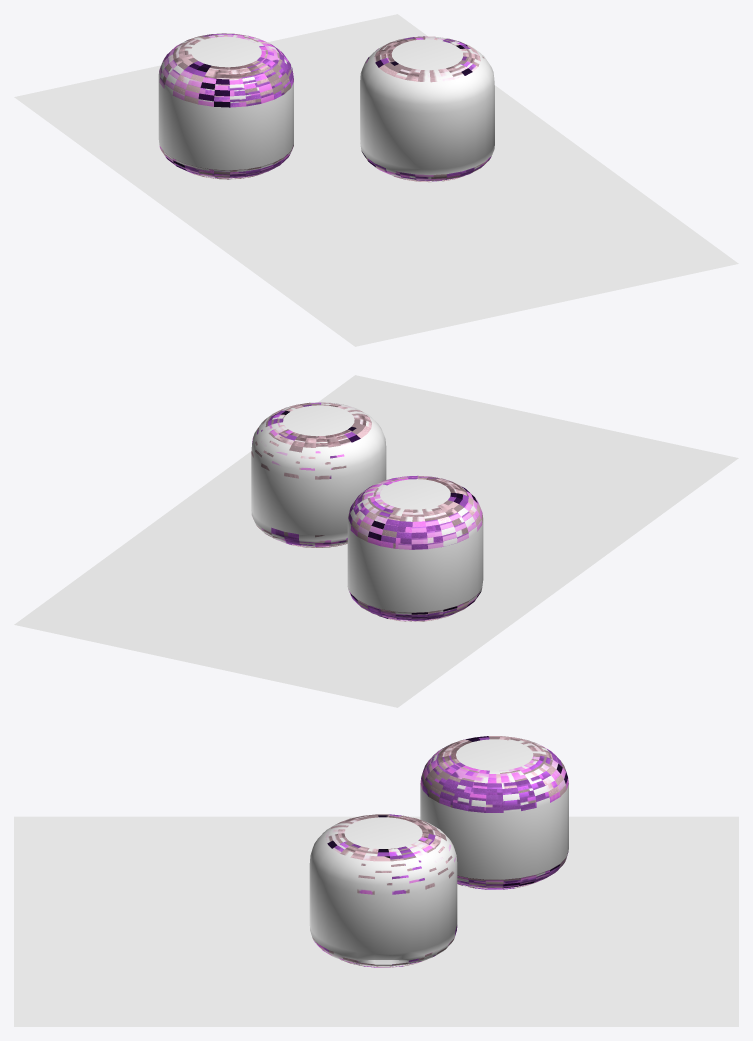
File: demo.glb.gltf
3 renders of one model, top to bottom at view 1: azimuth 30°, elevation 25°; view 2: azimuth 150°, elevation 25°; view 3: azimuth 270°, elevation 25°, orthographic. The views are drawn at different scales.
Parts seen in each view (by area): view 1: Plane; view 2: Plane; view 3: Plane.
Boxes of the visible parts, box(x1,y1,x2,y2) form: Plane: box(14, 14, 738, 346); Plane: box(14, 375, 738, 707); Plane: box(14, 736, 738, 1026).
Size of the model in its own units: 2.71 by 0.7842 by 4.18.
Materials: 3 (3 with a texture image).
